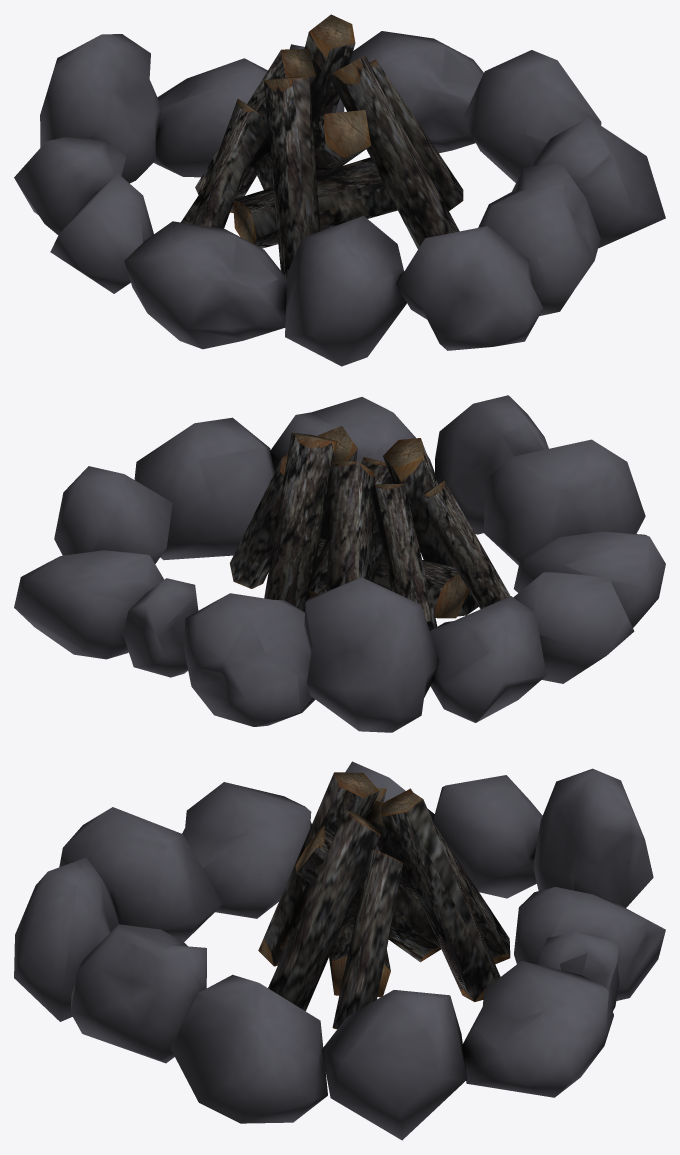
The model's file is Campfire_LOWPOLY.obj.
3 views of the same model, one above another, from view 1: azimuth 30°, elevation 25°; view 2: azimuth 150°, elevation 25°; view 3: azimuth 270°, elevation 25° (orthographic). The views are drawn at different scales.
Visible parts, largest first — view 1: Cylinder.015_Material.066; view 2: Cylinder.015_Material.066; view 3: Cylinder.015_Material.066.
Part boxes in pixels (box(x1,y1,x2,y2)): Cylinder.015_Material.066: box(14, 14, 665, 366); Cylinder.015_Material.066: box(14, 395, 665, 732); Cylinder.015_Material.066: box(14, 761, 665, 1140).
Size of the model in its own units: 1.52 by 0.5958 by 1.54.
